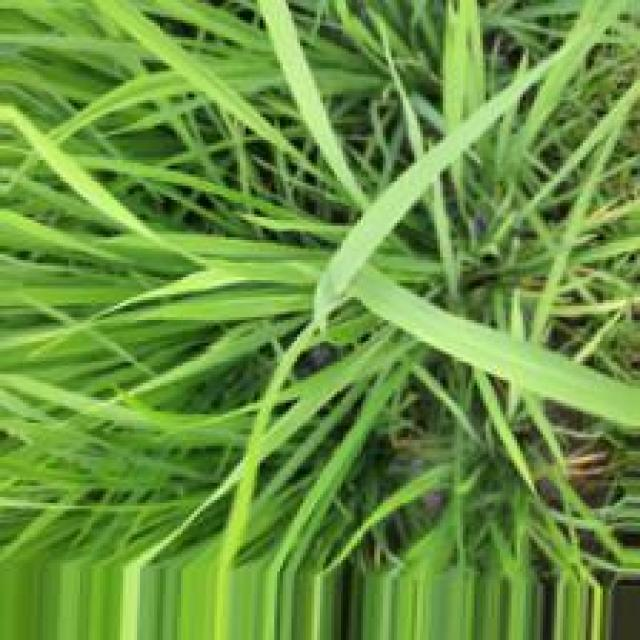HealthyLeaf: (312, 44, 569, 307), (352, 259, 640, 435)
